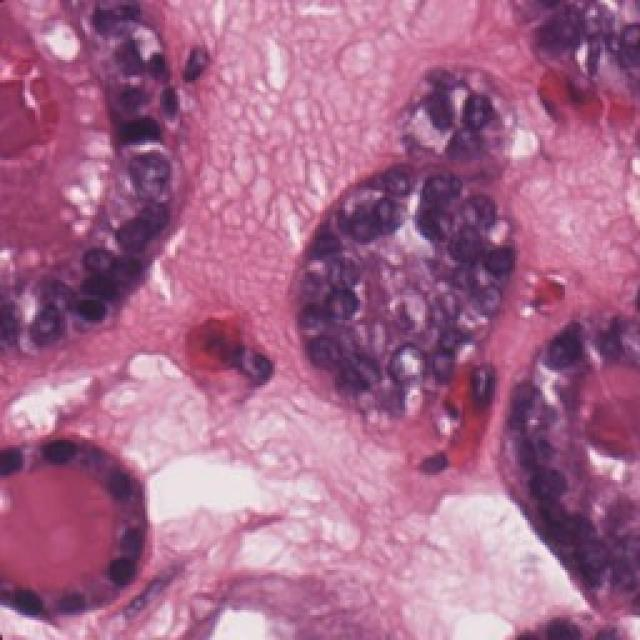abnormal: (97, 122, 201, 218), (318, 168, 412, 246), (112, 10, 192, 88), (526, 312, 610, 383), (447, 68, 519, 148), (445, 174, 511, 248), (451, 343, 509, 427), (5, 289, 74, 356), (433, 289, 507, 351), (381, 328, 439, 400), (308, 268, 369, 333), (68, 237, 136, 291)
